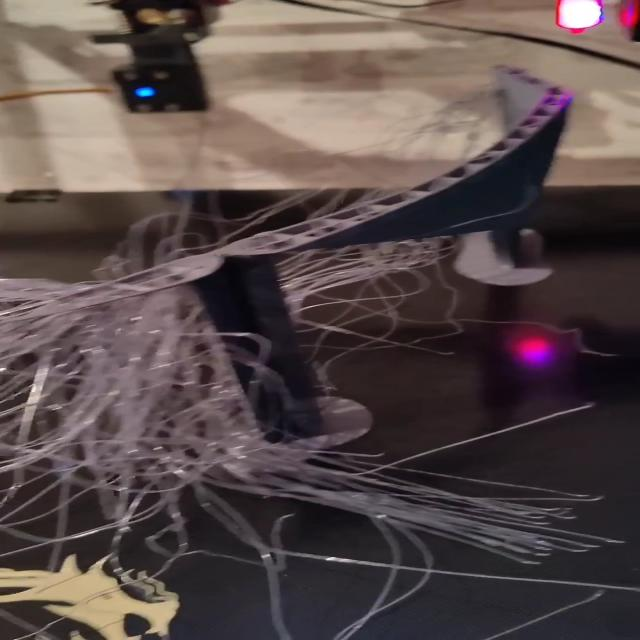spaghetti: (3, 218, 638, 562)
